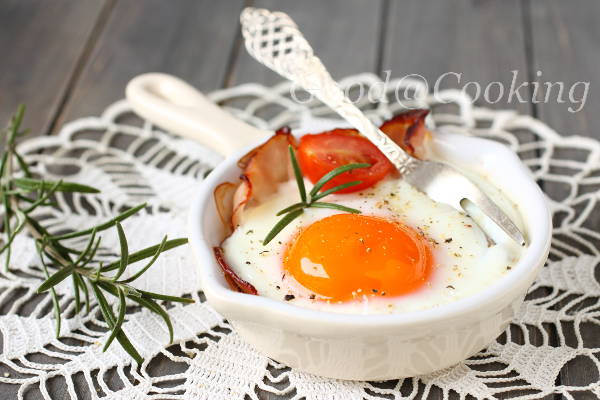fried egg: (243, 174, 489, 313)
